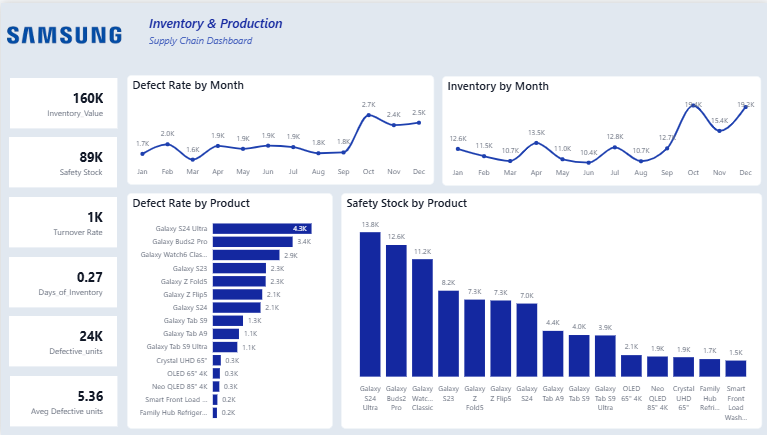

The page's visual inventory and layout, read from the dashboard file:
{"tool":"powerbi","page":{"name":"Inventory & Production","canvas":[1280,720],"ordinal":3},"visuals":[{"type":"cardVisual","fields":{"Data":["MeasuresTable.Safety_Stock"]},"box":[8.3,218.8,190,94],"z":0},{"type":"cardVisual","fields":{"Data":["MeasuresTable.Turnover Rate"]},"box":[8.3,318.2,190,94],"z":1000},{"type":"cardVisual","fields":{"Data":["MeasuresTable.Days_of_Inventory"]},"box":[8.3,417.6,190,94],"z":2000},{"type":"cardVisual","fields":{"Data":["Sum(fact_production.defective_units)"]},"box":[8.3,517.1,190,94],"z":3000},{"type":"cardVisual","fields":{"Data":["Avg(fact_production.defective_units)"]},"box":[10.1,616.5,189.8,94.1],"z":4000},{"type":"cardVisual","fields":{"Data":["MeasuresTable.Inventory_Value"]},"box":[10.1,119.3,189.8,94.1],"z":5000},{"type":"clusteredBarChart","title":"Defect Rate by Product","fields":{"Category":["dim_product.product_name"],"Y":["MeasuresTable.Defect_Rate"]},"box":[210,317.5,342.7,393.1],"z":6000},{"type":"clusteredColumnChart","title":"Safety Stock by Product","fields":{"Category":["dim_product.product_name"],"Y":["MeasuresTable.Safety_Stock"]},"box":[566.1,317.5,702.2,393.1],"z":7000},{"type":"lineChart","title":"Defect Rate by Month","fields":{"Y":["MeasuresTable.Defect_Rate"],"Category":["dim_date.Month_Short"]},"box":[210,119.3,512.3,183],"z":8000},{"type":"lineChart","title":"Inventory by Month","fields":{"Category":["dim_date.Month_Short"],"Y":["MeasuresTable.Inventory_Value"]},"box":[735.7,120.9,532.5,183.1],"z":9000},{"type":"image","box":[0,0,210,107.1],"z":10000},{"type":"shape","title":"Inventory & Production","box":[247.1,18.6,304.3,88.6],"z":11000}]}

Visuals, with their boxes in screenshot pixels (x1, y1, x2, y2), scaled from the page's 1280x720 canvas onto the 767x435 screenshot:
cardVisual - MeasuresTable.Safety_Stock: bbox=(5, 132, 119, 189)
cardVisual - MeasuresTable.Turnover Rate: bbox=(5, 192, 119, 249)
cardVisual - MeasuresTable.Days_of_Inventory: bbox=(5, 252, 119, 309)
cardVisual - Sum(fact_production.defective_units): bbox=(5, 312, 119, 369)
cardVisual - Avg(fact_production.defective_units): bbox=(6, 372, 120, 429)
cardVisual - MeasuresTable.Inventory_Value: bbox=(6, 72, 120, 129)
"Defect Rate by Product" clusteredBarChart: bbox=(126, 192, 331, 429)
"Safety Stock by Product" clusteredColumnChart: bbox=(339, 192, 760, 429)
"Defect Rate by Month" lineChart: bbox=(126, 72, 433, 183)
"Inventory by Month" lineChart: bbox=(441, 73, 760, 184)
image: bbox=(0, 0, 126, 65)
"Inventory & Production" shape: bbox=(148, 11, 330, 65)
